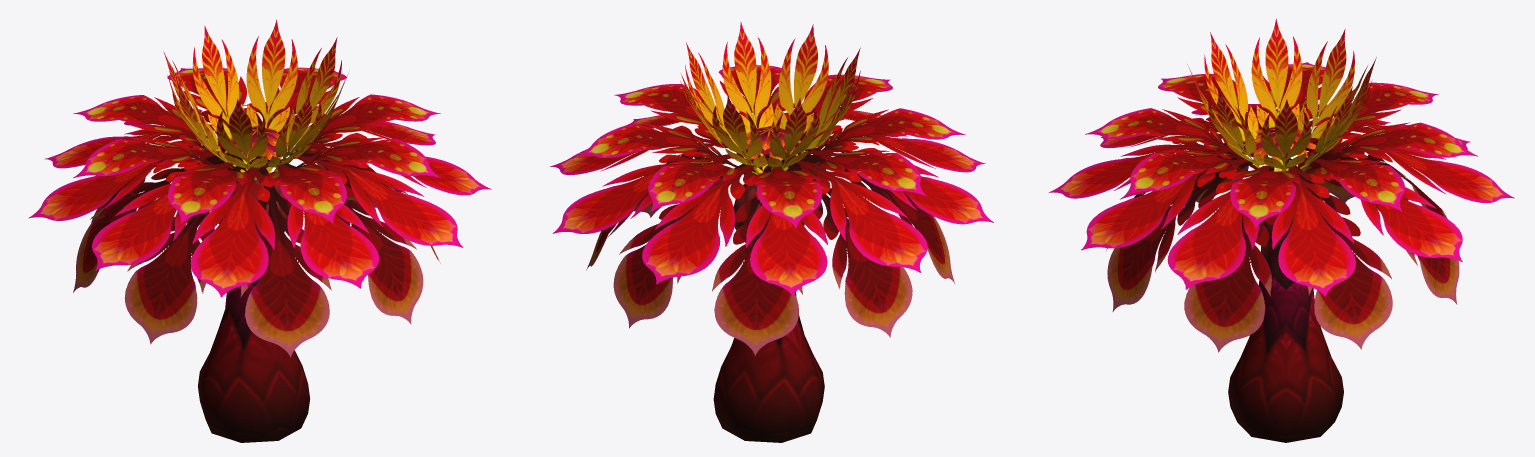
File: Red_Bush_04c.FBX
3 views of the same model, side by side, from view 1: azimuth 30°, elevation 25°; view 2: azimuth 150°, elevation 25°; view 3: azimuth 270°, elevation 25° (orthographic).
Parts seen in each view (by area): view 1: Red_Bush_04c; view 2: Red_Bush_04c; view 3: Red_Bush_04c.
Part boxes in pixels (bbox=[...]): Red_Bush_04c: bbox=[29, 19, 491, 442]; Red_Bush_04c: bbox=[550, 22, 993, 442]; Red_Bush_04c: bbox=[1049, 18, 1514, 442].
Bounding box in the file's own units: 200 × 167 × 198.
